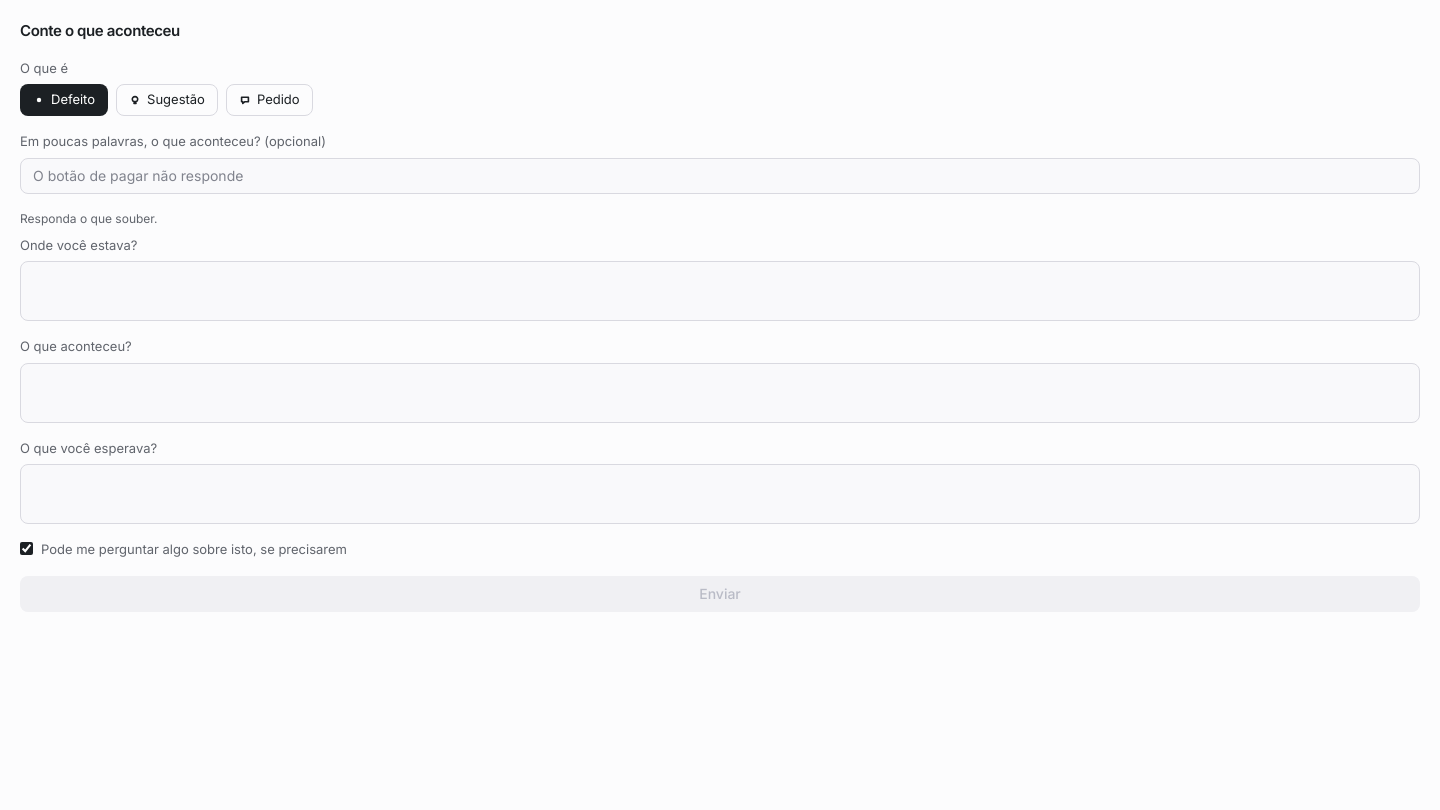
o envio pede pelo menos uma resposta › no tipo com perguntas e caixa, so a caixa ja libera
This screenshot has width=1440, height=810.
Step 1. Click the button "Pedido" → (269,100), box x1=226 y1=84 x2=313 y2=116
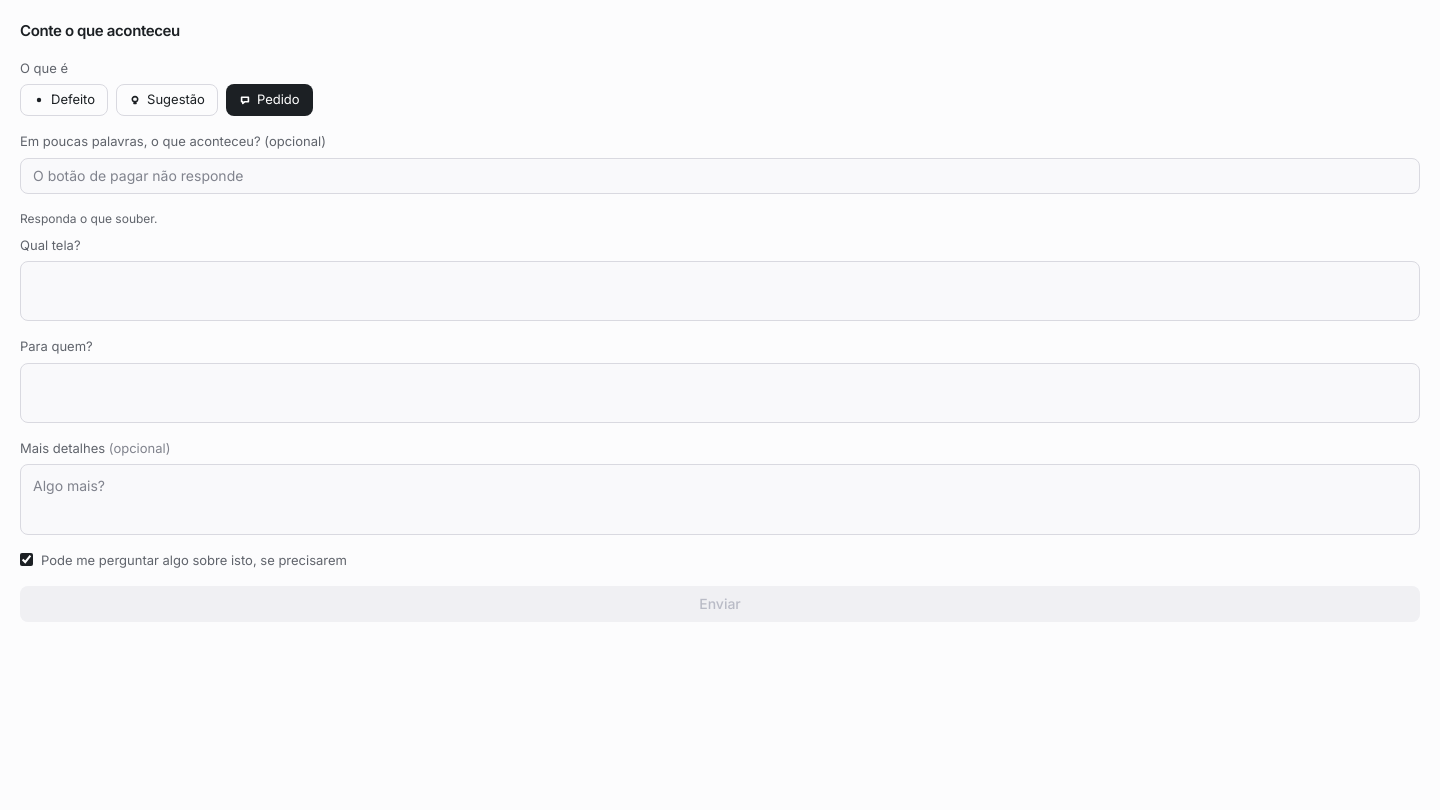
Expected: the button "Enviar" is disabled, x1=20 y1=586 x2=1420 y2=622
Step 2. Type "Para o time do caixa" into the text box labelled "Mais detalhes (opcional)" → (720,499), box x1=20 y1=464 x2=1420 y2=534
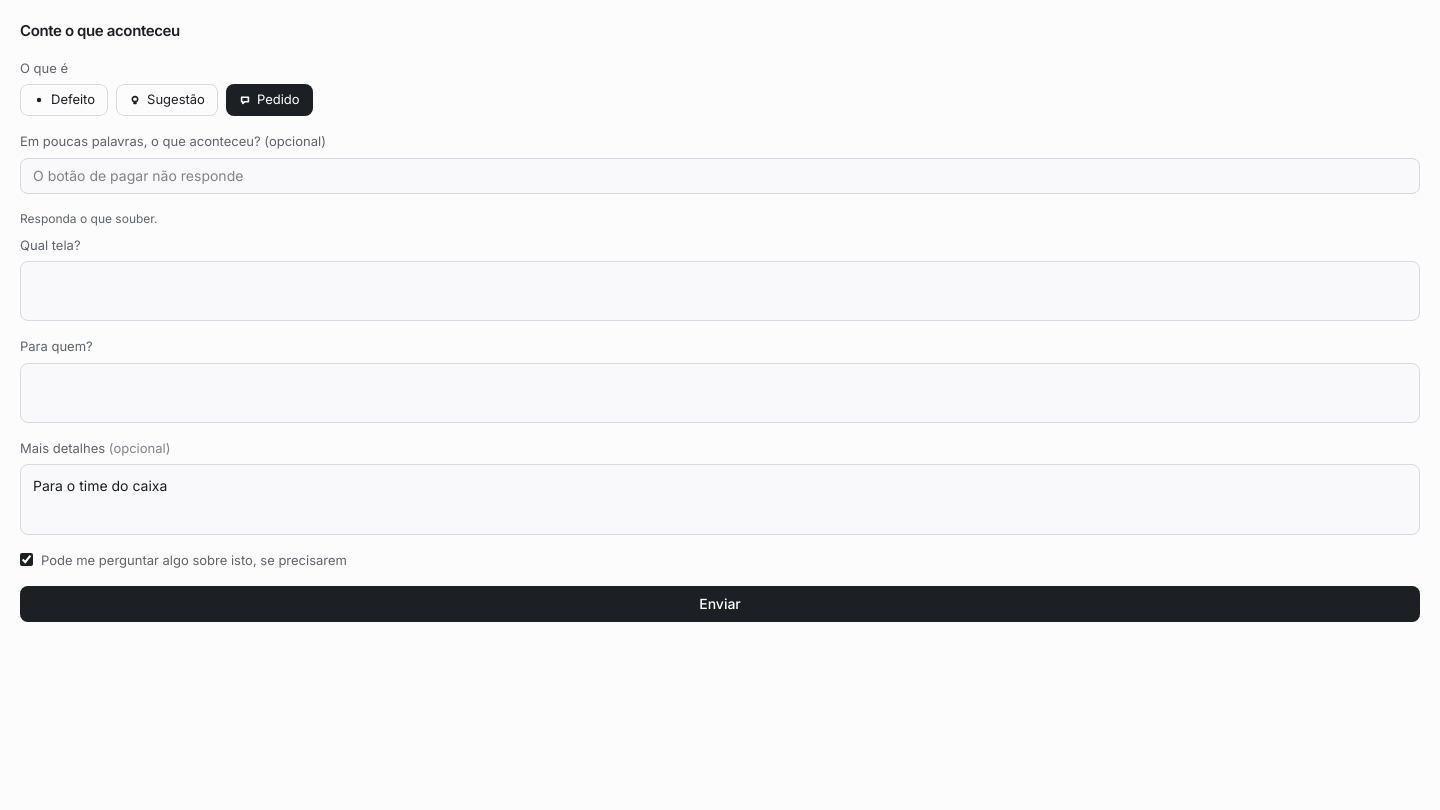
Expected: the button "Enviar" is enabled, x1=20 y1=586 x2=1420 y2=622
